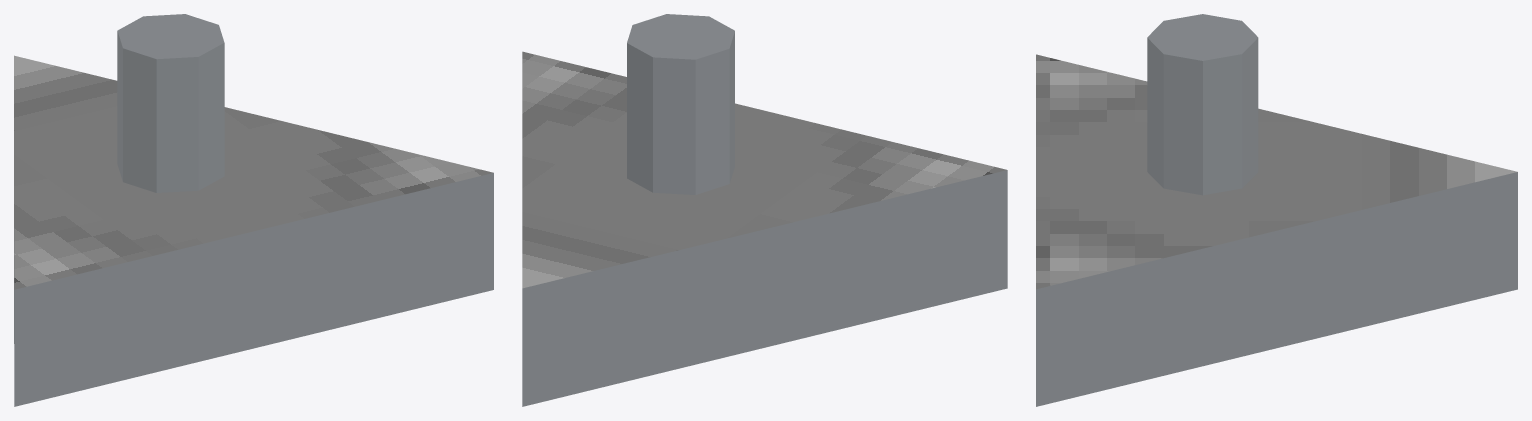
File: Building_Turret_TacticalTurret.glb
3 renders of one model, left to right at view 1: azimuth 30°, elevation 25°; view 2: azimuth 150°, elevation 25°; view 3: azimuth 270°, elevation 25°, orthographic.
Parts seen in each view (by area): view 1: Turret_TacticalTurret; view 2: Turret_TacticalTurret; view 3: Turret_TacticalTurret.
Boxes of the visible parts, box(x1,y1,x2,y2) form: Turret_TacticalTurret: box(14, 14, 493, 406); Turret_TacticalTurret: box(522, 14, 1007, 406); Turret_TacticalTurret: box(1036, 14, 1517, 406).
Bounding box in the file's own units: 0.6 × 0.3 × 0.52.
Materials: 1 (1 with a texture image).
